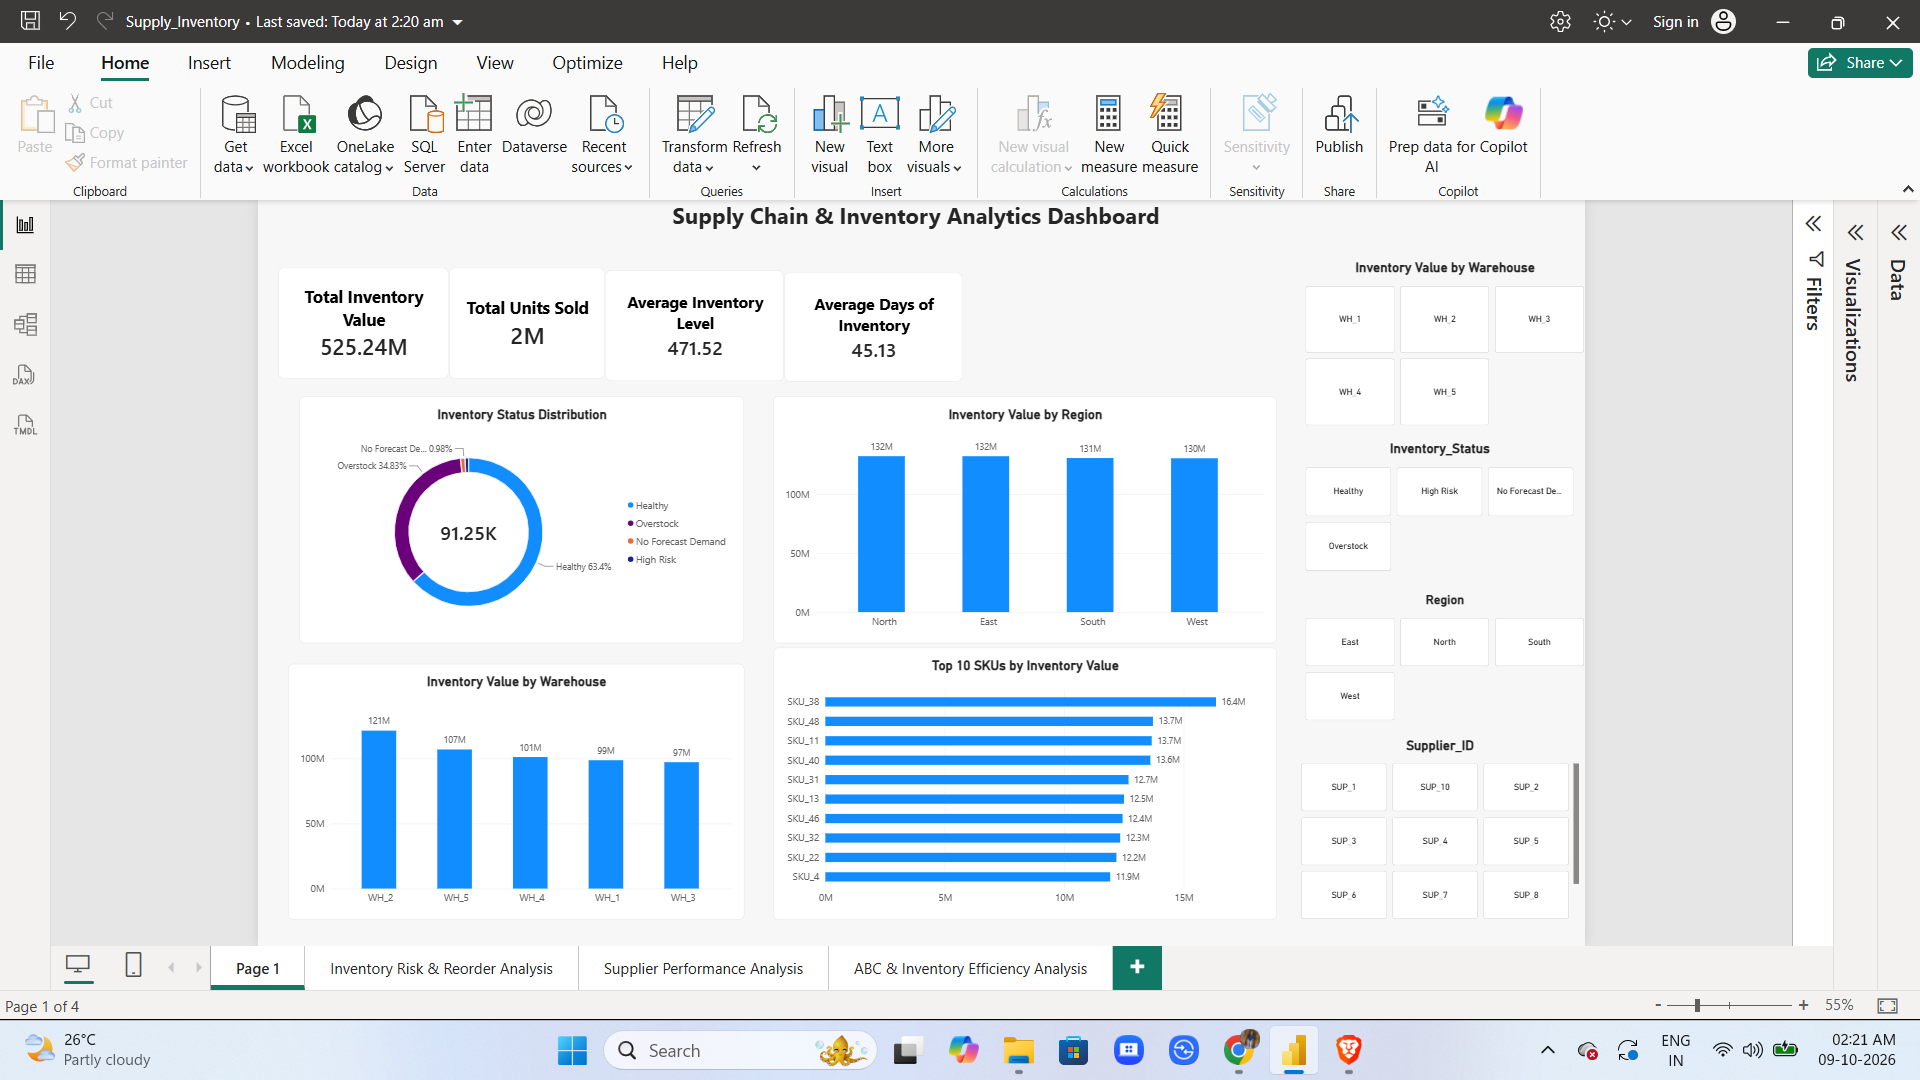

What the dashboard file says about the page in this screenshot:
{"tool":"powerbi","page":{"name":"Page 1","canvas":[1920,1080],"ordinal":0},"visuals":[{"type":"cardVisual","fields":{"Data":["SupplyChain.Total Inventory Value"]},"box":[29.8,98.6,247.5,161.9],"z":0},{"type":"cardVisual","fields":{"Data":["SupplyChain.Total Units Sold"]},"box":[277.3,98.6,225.2,161.9],"z":1000},{"type":"cardVisual","fields":{"Data":["SupplyChain.Average Inventory Level"]},"box":[502.4,100.5,258.7,161.9],"z":2000},{"type":"cardVisual","fields":{"Data":["SupplyChain.Average Days of Inventory"]},"box":[761.1,104.2,258.7,158.2],"z":3000},{"type":"donutChart","title":"Inventory Status Distribution","fields":{"Category":["SupplyChain.Inventory_Status"],"Y":["CountNonNull(SupplyChain.Inventory_Status)"]},"box":[59.5,284.7,643.8,357.3],"z":4000},{"type":"clusteredColumnChart","title":"Inventory Value by Region","fields":{"Category":["SupplyChain.Region"],"Y":["Sum(SupplyChain.Inventory_Value)"]},"box":[746.2,284.7,729.4,357.3],"z":5000},{"type":"clusteredColumnChart","title":"Inventory Value by Warehouse","fields":{"Category":["SupplyChain.Warehouse_ID"],"Y":["Sum(SupplyChain.Inventory_Value)"]},"box":[42.8,671.8,660.6,370.3],"z":6000},{"type":"clusteredBarChart","title":"Top 10 SKUs by Inventory Value","fields":{"Category":["SupplyChain.SKU_ID"],"Y":["Sum(SupplyChain.Inventory_Value)"]},"box":[746.2,647.6,729.4,394.5],"z":7000},{"type":"advancedSlicerVisual","title":"Region","fields":{"Values":["SupplyChain.Region"]},"box":[1516.6,567.6,403.8,186.1],"z":8000},{"type":"advancedSlicerVisual","title":"Inventory Value by Warehouse","fields":{"Values":["SupplyChain.Warehouse_ID"]},"box":[1515.9,87,404.5,241.4],"z":9000},{"type":"advancedSlicerVisual","fields":{"Values":["SupplyChain.Supplier_ID"]},"box":[1509.4,778.6,403.8,264.2],"z":10000},{"type":"advancedSlicerVisual","fields":{"Values":["SupplyChain.Inventory_Status"]},"box":[1515.9,350.2,389.3,189.2],"z":11000},{"type":"textbox","box":[0,0,1905.5,63.3],"z":12000}]}

Visuals, with their boxes on the page's 1920x1080 design canvas (x1, y1, x2, y2). These are canvas units, not pixel positions in the 1920x1080 screenshot, which may show the page scaled, cropped or inside an application window:
cardVisual - SupplyChain.Total Inventory Value: [30, 99, 277, 260]
cardVisual - SupplyChain.Total Units Sold: [277, 99, 502, 260]
cardVisual - SupplyChain.Average Inventory Level: [502, 100, 761, 262]
cardVisual - SupplyChain.Average Days of Inventory: [761, 104, 1020, 262]
"Inventory Status Distribution" donutChart: [60, 285, 703, 642]
"Inventory Value by Region" clusteredColumnChart: [746, 285, 1476, 642]
"Inventory Value by Warehouse" clusteredColumnChart: [43, 672, 703, 1042]
"Top 10 SKUs by Inventory Value" clusteredBarChart: [746, 648, 1476, 1042]
"Region" advancedSlicerVisual: [1517, 568, 1920, 754]
"Inventory Value by Warehouse" advancedSlicerVisual: [1516, 87, 1920, 328]
advancedSlicerVisual - SupplyChain.Supplier_ID: [1509, 779, 1913, 1043]
advancedSlicerVisual - SupplyChain.Inventory_Status: [1516, 350, 1905, 539]
textbox: [0, 0, 1906, 63]
